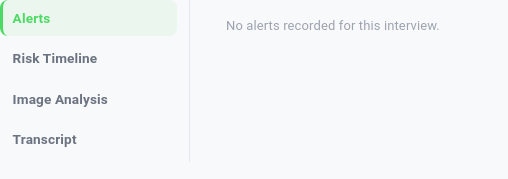
it: ActivityExplorer › shows an empty state for the default feed and switches tabs
Check: the text "No alerts recorded for this interview." is shown, box [226,18,440,33]
Click the text "Risk Timeline". click: (55,59)
box: [13,48,97,69]
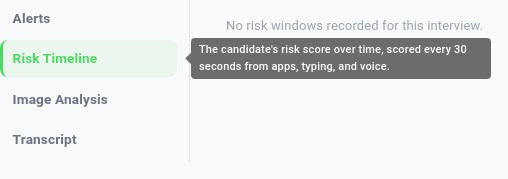
Check: the text "No risk windows recorded for this interview." is shown, box [226,18,483,33]
